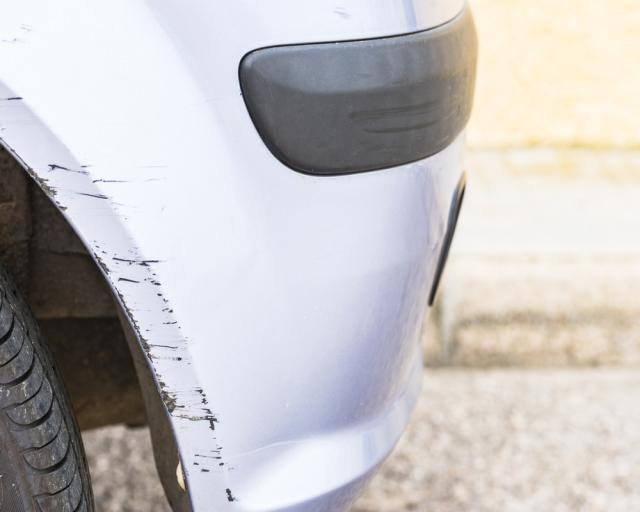scratch: (0, 95, 242, 508)
